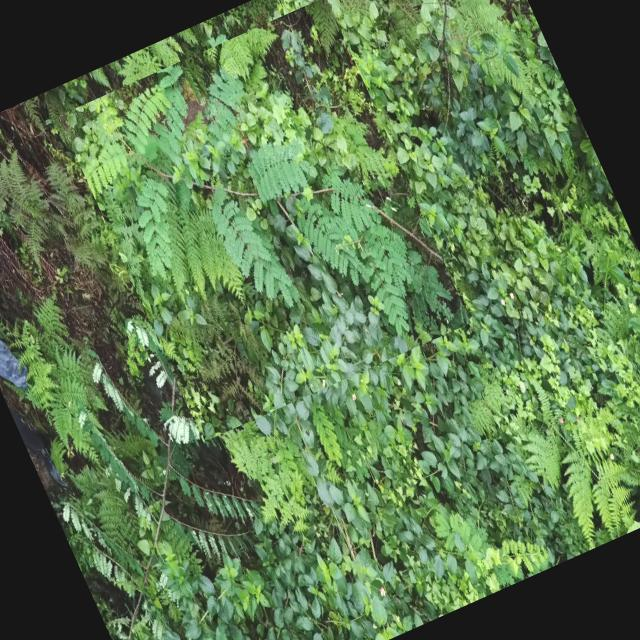Mysore-Thorn-Weed: (58, 0, 471, 442)
